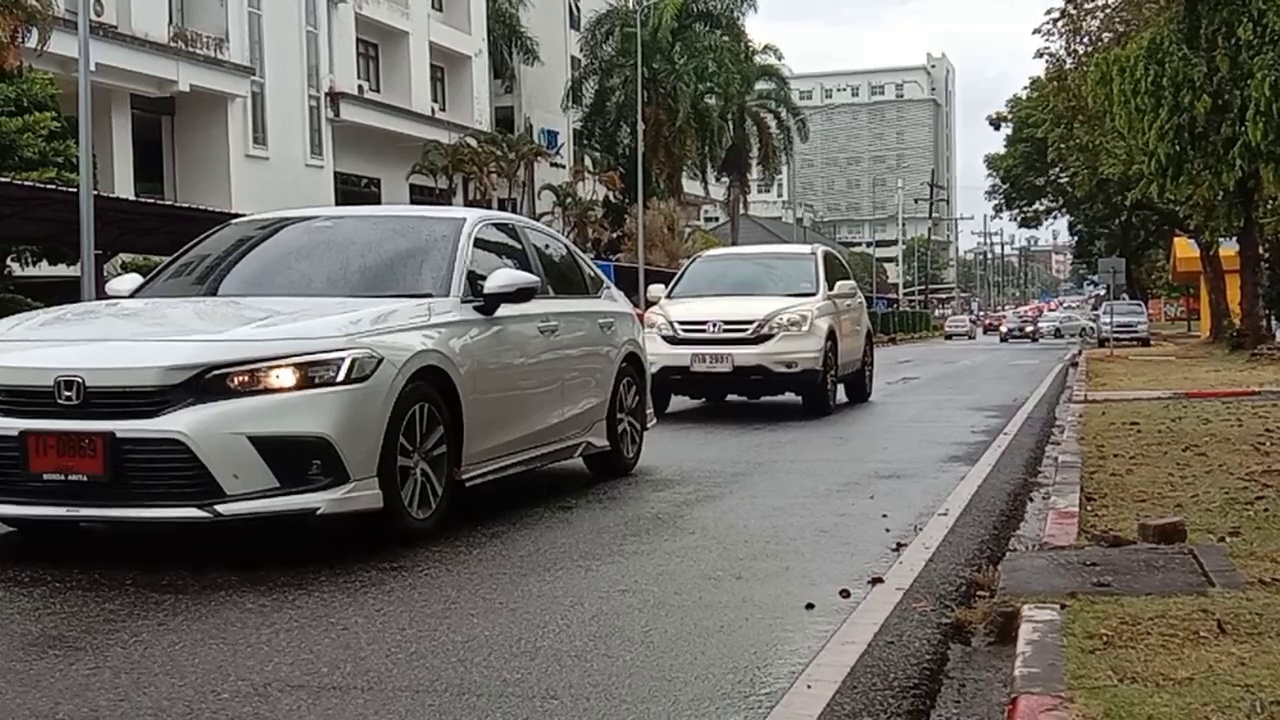License Plate: (19, 426, 108, 490), (686, 352, 733, 373)
